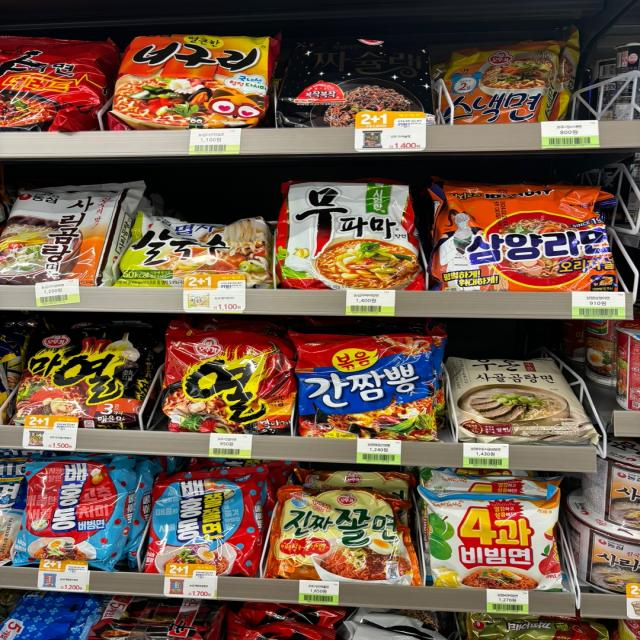product: (434, 188, 614, 302), (280, 174, 415, 288), (112, 31, 268, 129), (423, 487, 568, 590), (299, 332, 442, 436), (159, 334, 293, 434), (15, 459, 136, 569), (275, 489, 422, 579), (292, 34, 436, 122), (2, 180, 130, 278), (144, 470, 260, 573), (22, 336, 152, 424), (443, 44, 553, 124)
